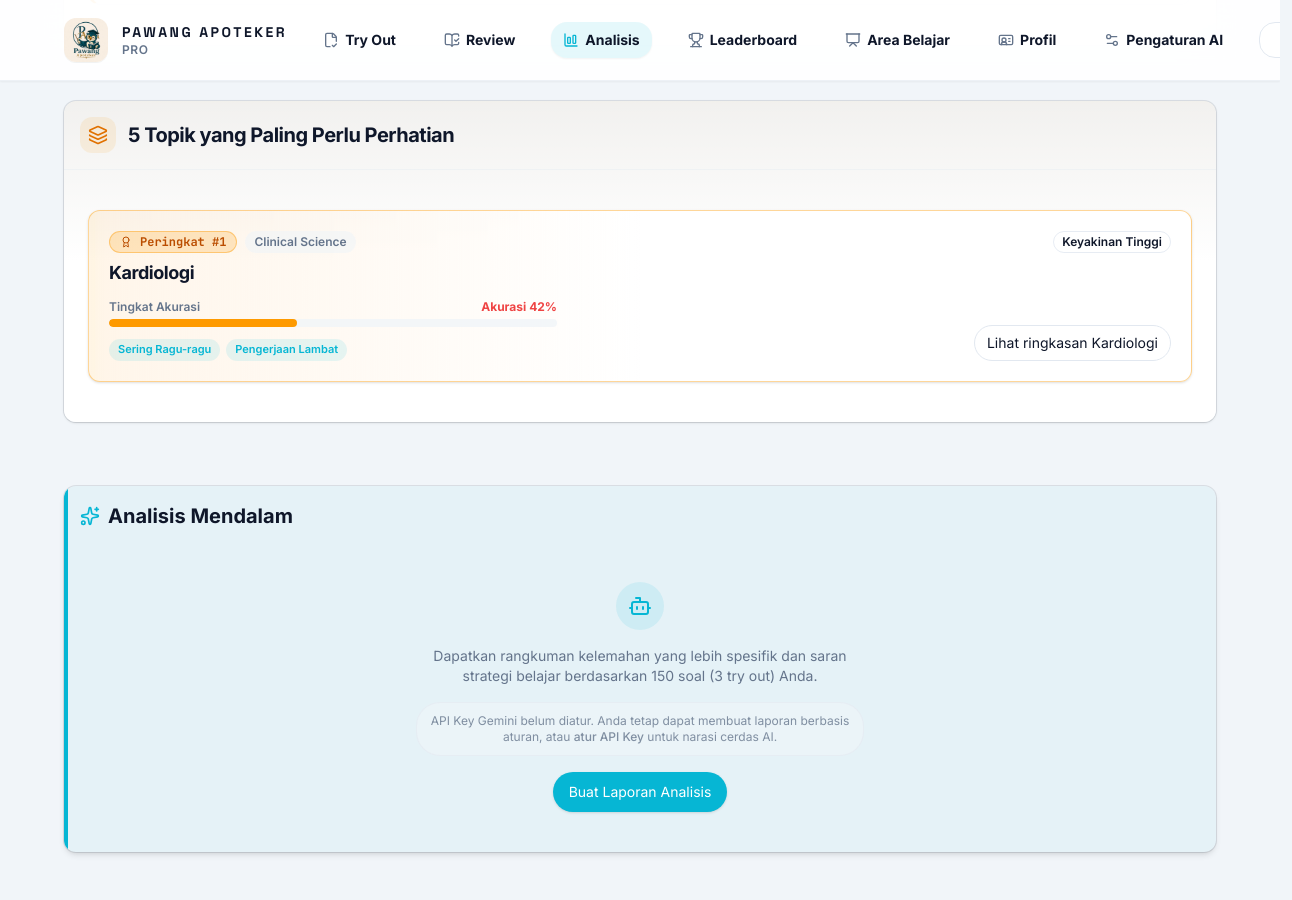
Analytics page › source=fallback displays badge and hides model label
The width and height of the screenshot is (1292, 900).
(page scrolled)
Click the button "Buat Laporan Analisis" at (640, 792), box [553,772,727,812]
(page scrolled)
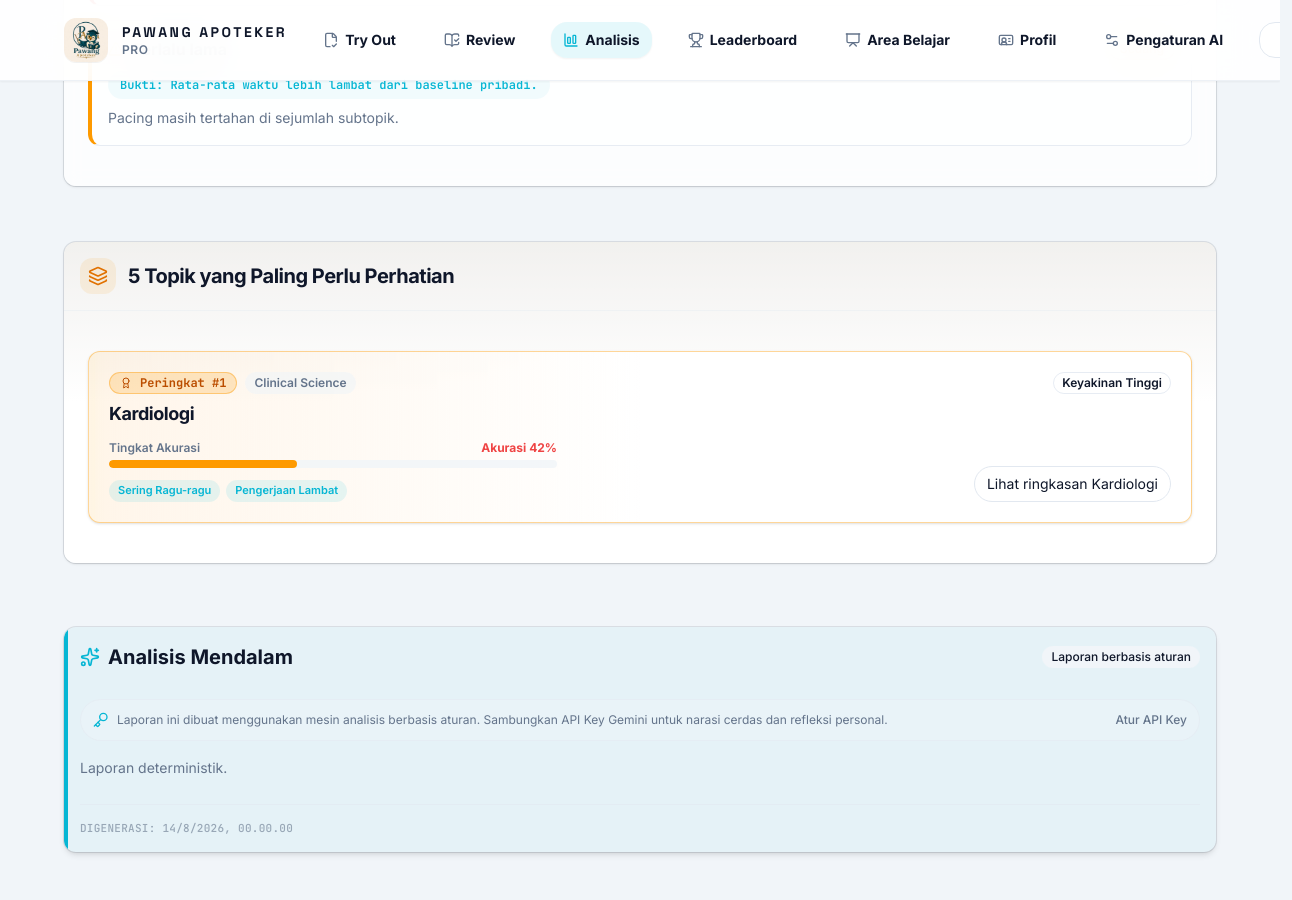
Expected: the text "Laporan berbasis aturan" is shown, [1042,646,1200,668]
Expected: the text "Laporan deterministik." is shown, [80,759,227,776]
